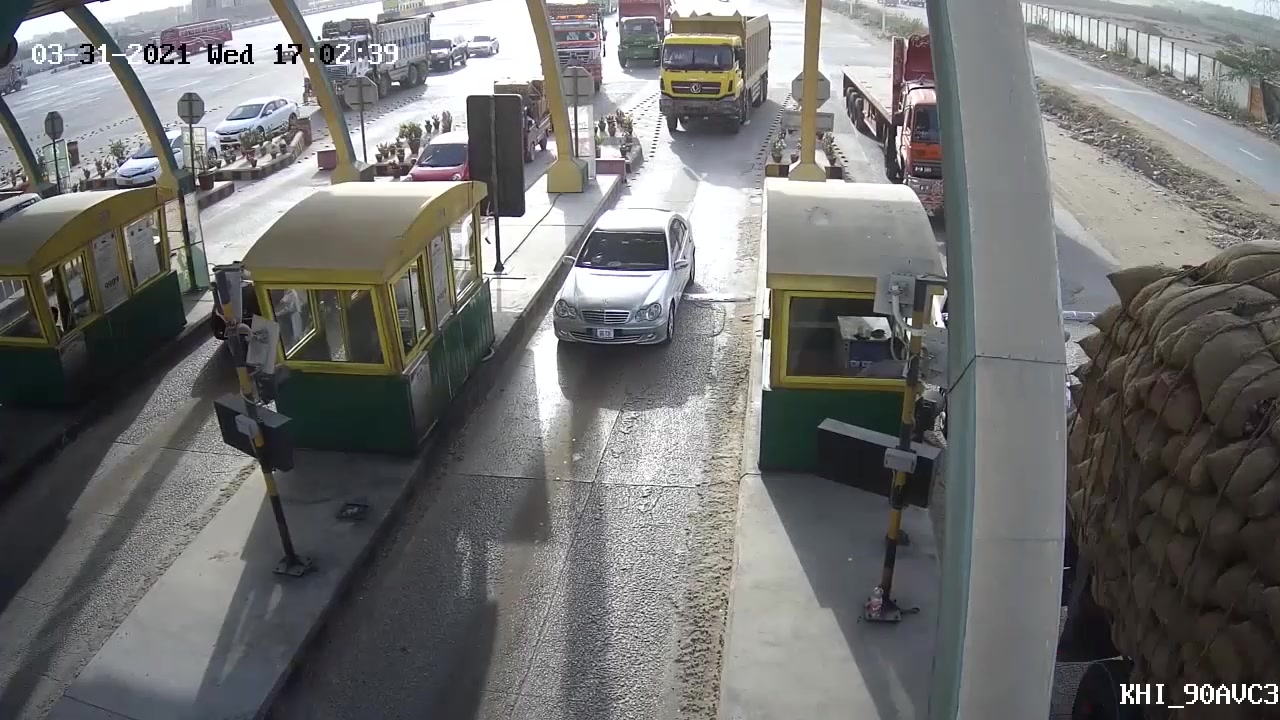F1: (548, 207, 701, 379)
F5: (651, 12, 777, 133)
